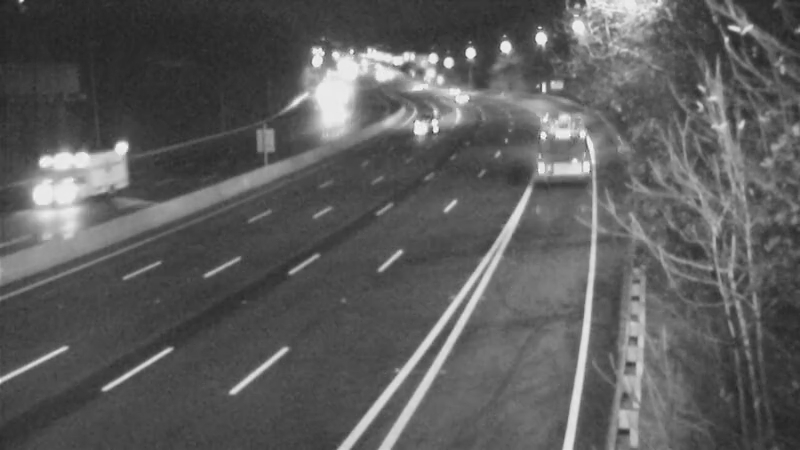vehicle: (40, 137, 120, 217), (427, 64, 477, 114), (437, 75, 487, 125), (393, 98, 443, 148), (530, 121, 580, 171)
